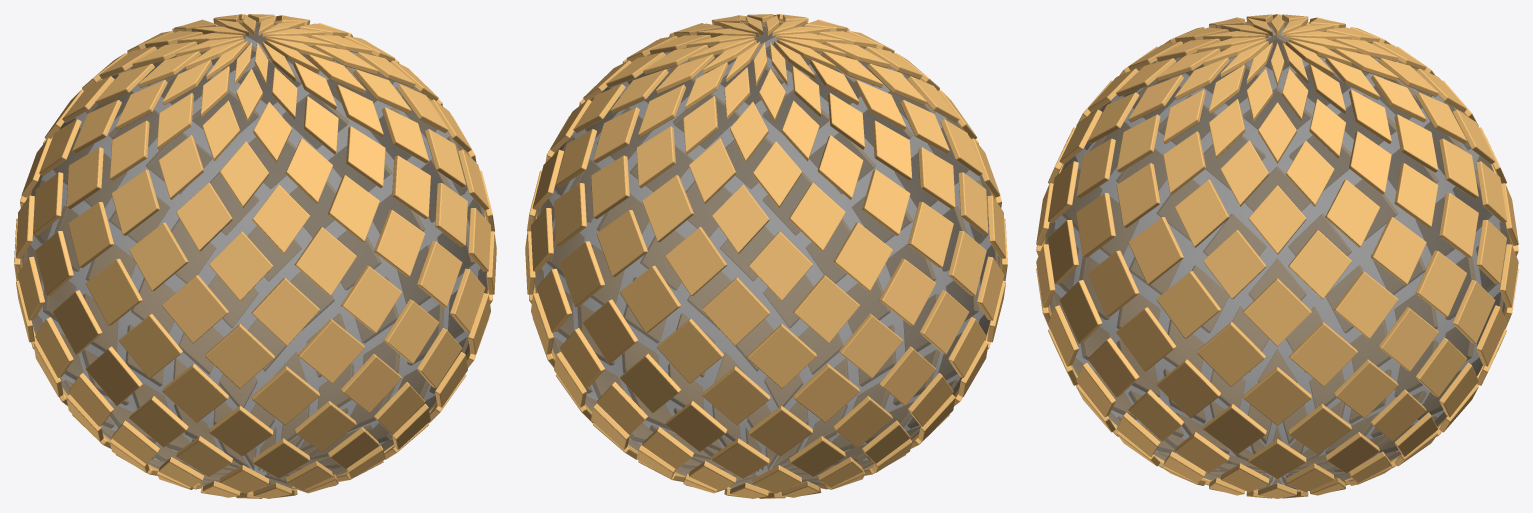
File: orb-3.glb
The picture shows the model from 3 angles, left to right: view 1: azimuth 30°, elevation 25°; view 2: azimuth 150°, elevation 25°; view 3: azimuth 270°, elevation 25°; orthographic projection.
Parts seen in each view (by area): view 1: Sphere, Sphere.001; view 2: Sphere, Sphere.001; view 3: Sphere, Sphere.001.
Part boxes in pixels (x1=…): Sphere: x1=14, y1=14, x2=496, y2=498; Sphere.001: x1=22, y1=22, x2=487, y2=488; Sphere: x1=525, y1=14, x2=1007, y2=498; Sphere.001: x1=534, y1=22, x2=999, y2=488; Sphere: x1=1036, y1=14, x2=1518, y2=498; Sphere.001: x1=1045, y1=23, x2=1509, y2=489.
Size of the model in its own units: 200 by 201 by 200.
